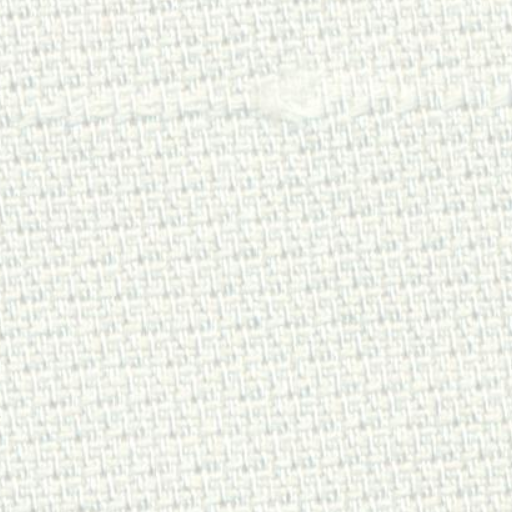DaiSha: (24, 76, 506, 138)
